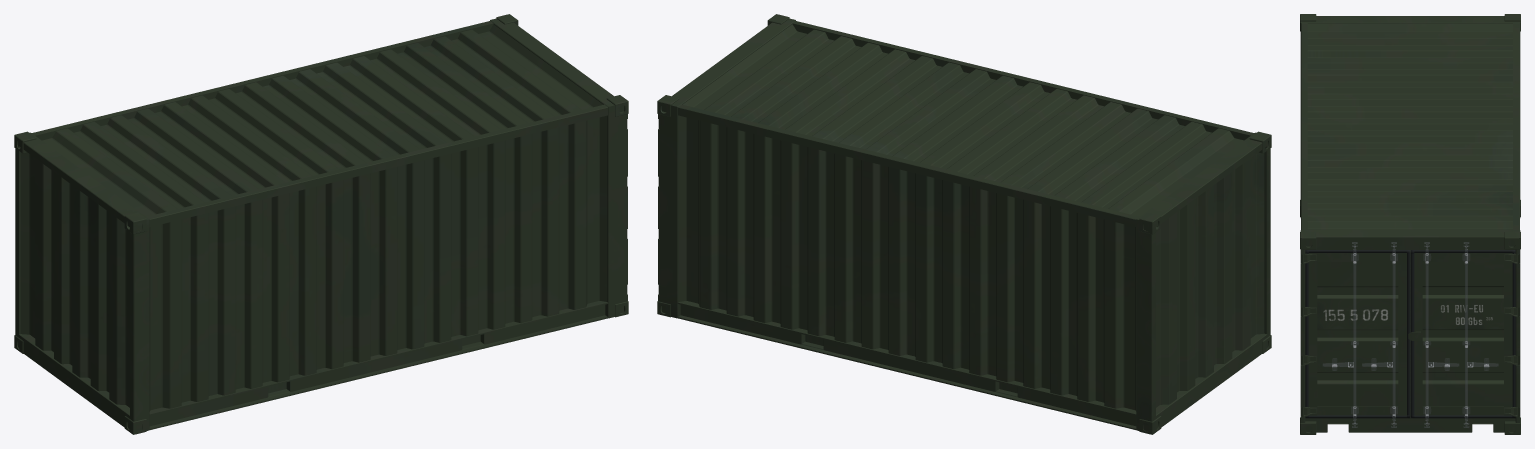
File: Без имени.glb
3 views of the same model, side by side, from view 1: azimuth 30°, elevation 25°; view 2: azimuth 150°, elevation 25°; view 3: azimuth 270°, elevation 25° (orthographic). The views are drawn at different scales.
Visible parts, largest first — view 1: 12281_Container_v2_L2; view 2: 12281_Container_v2_L2; view 3: 12281_Container_v2_L2.
Part boxes in pixels (x1,y1,x2,y2): 12281_Container_v2_L2: (14,14,628,434); 12281_Container_v2_L2: (657,14,1271,434); 12281_Container_v2_L2: (1300,14,1520,434).
Bounding box in the file's own units: 71.41 × 29.36 × 29.75.
2 materials, 2 textured.
